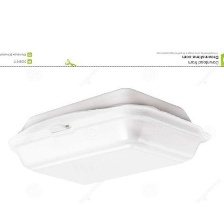foam_box: (5, 84, 215, 192)
